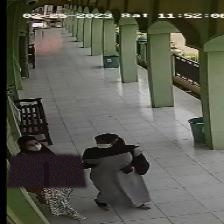Cadar_Niqab: (6, 136, 86, 187)
